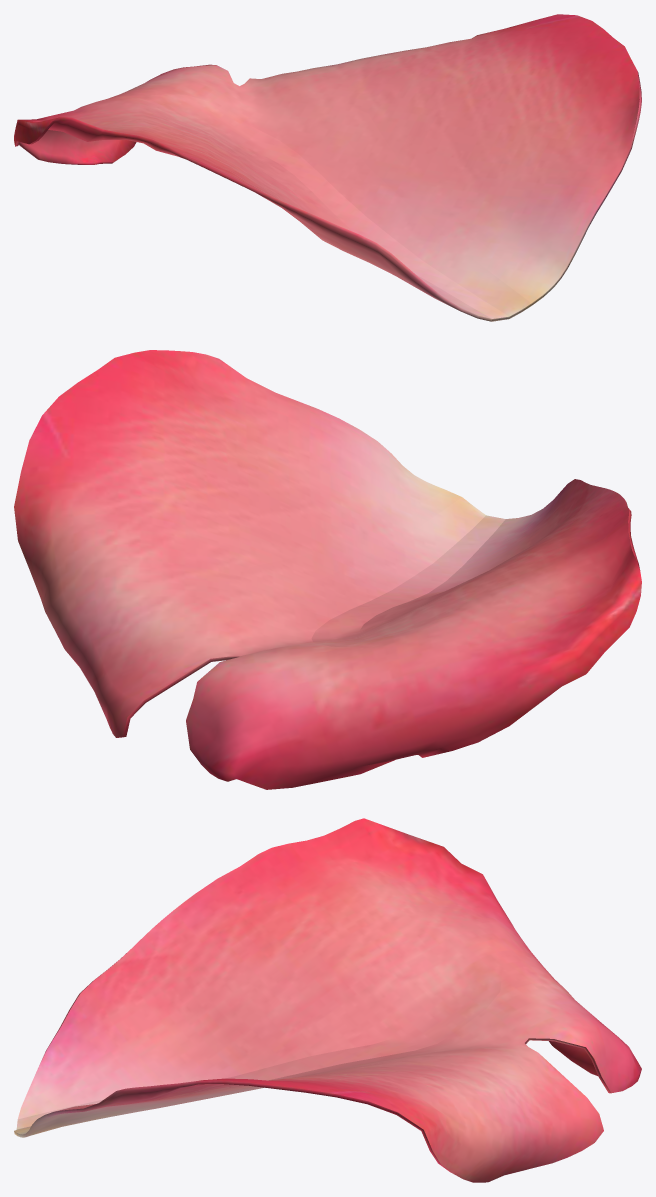
The model's file is flower-3.fbx.
3 views of the same model, one above another, from view 1: azimuth 30°, elevation 25°; view 2: azimuth 150°, elevation 25°; view 3: azimuth 270°, elevation 25° (orthographic). The views are drawn at different scales.
Parts seen in each view (by area): view 1: 3d66-Editable_mesh-20557473-001.007; view 2: 3d66-Editable_mesh-20557473-001.007; view 3: 3d66-Editable_mesh-20557473-001.007.
Boxes of the visible parts, left/top/right/bottom form: 3d66-Editable_mesh-20557473-001.007: left=14, top=14, right=641, bottom=321; 3d66-Editable_mesh-20557473-001.007: left=14, top=350, right=641, bottom=789; 3d66-Editable_mesh-20557473-001.007: left=14, top=818, right=641, bottom=1182.
Size of the model in its own units: 27.61 by 7.87 by 27.07.
